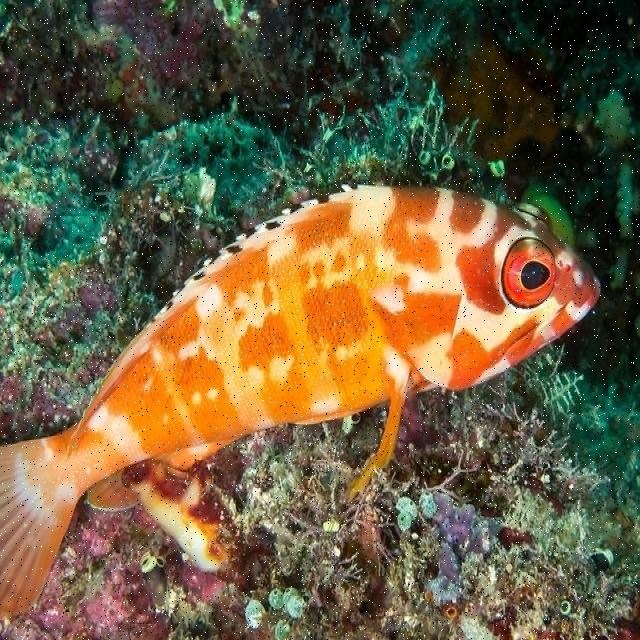fish: (0, 181, 604, 624), (84, 462, 229, 573)
